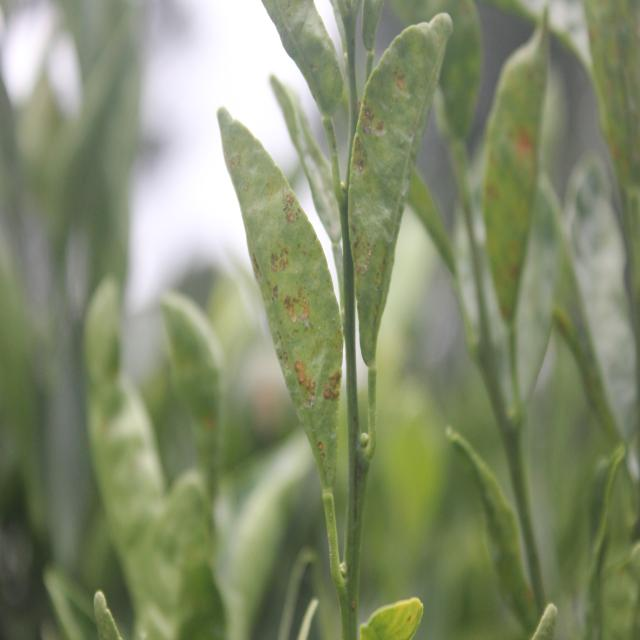canker: (235, 170, 336, 468), (343, 39, 413, 283), (489, 89, 541, 291)
